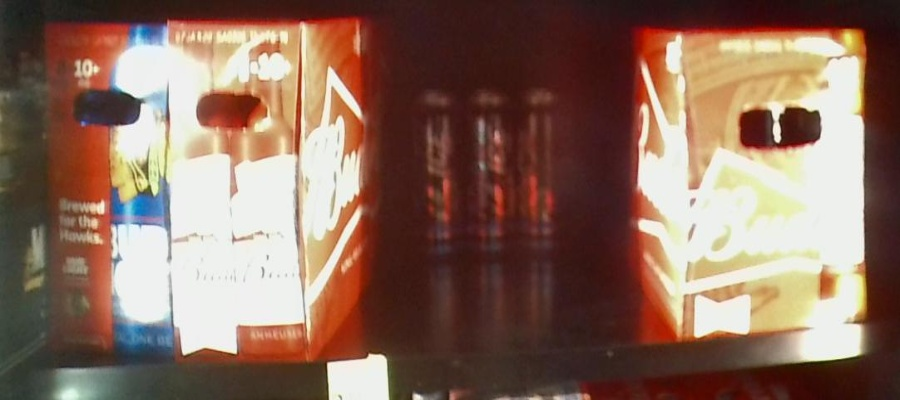bottle: (630, 24, 865, 328), (170, 18, 363, 343), (42, 21, 172, 358), (409, 89, 569, 247)
